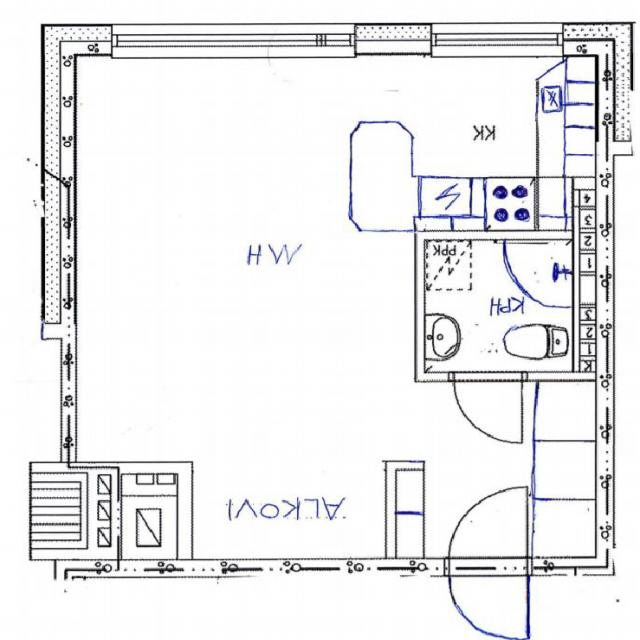door: (449, 486, 526, 576), (454, 371, 522, 444)
